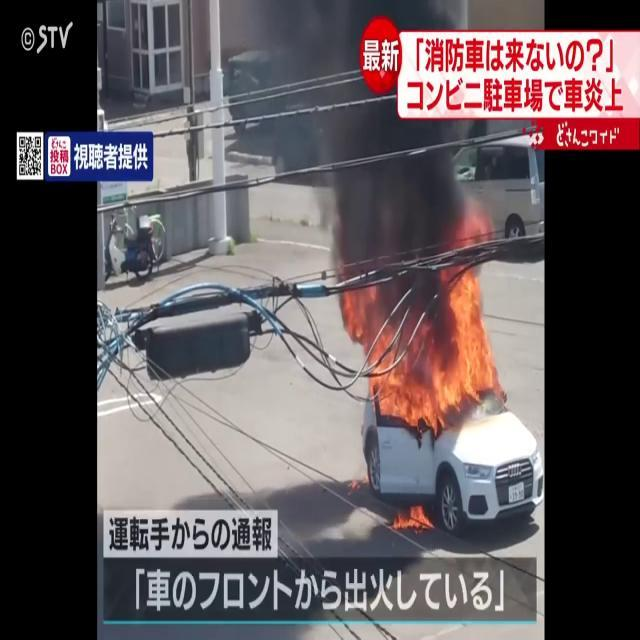Fire: (357, 243, 503, 429), (392, 498, 432, 534)
Smoke: (266, 1, 472, 293)
